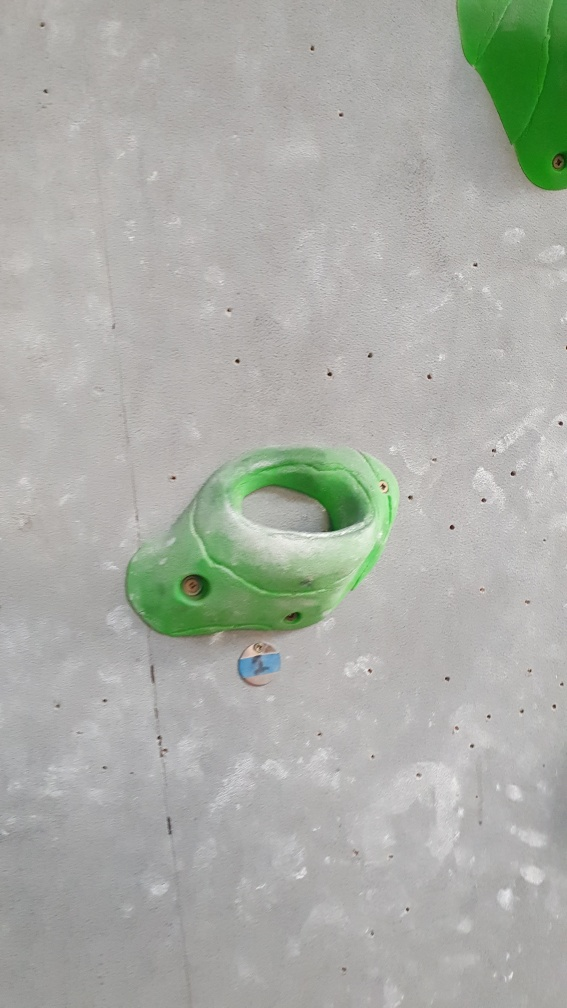Hand Start: (231, 638, 284, 689)
Pocket: (123, 443, 403, 640)
